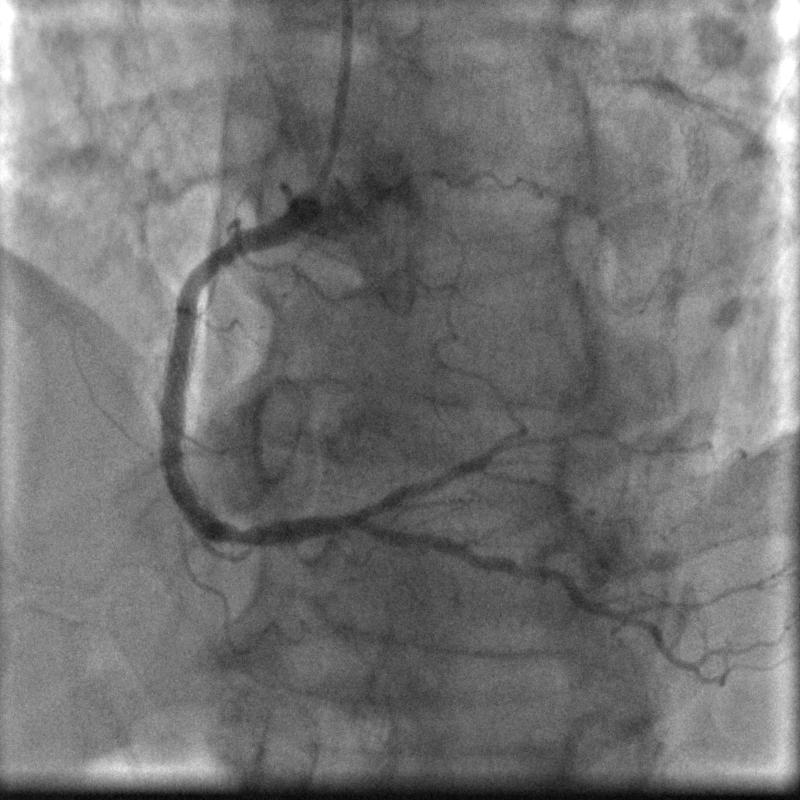Stenosis: (196, 229, 235, 290)
